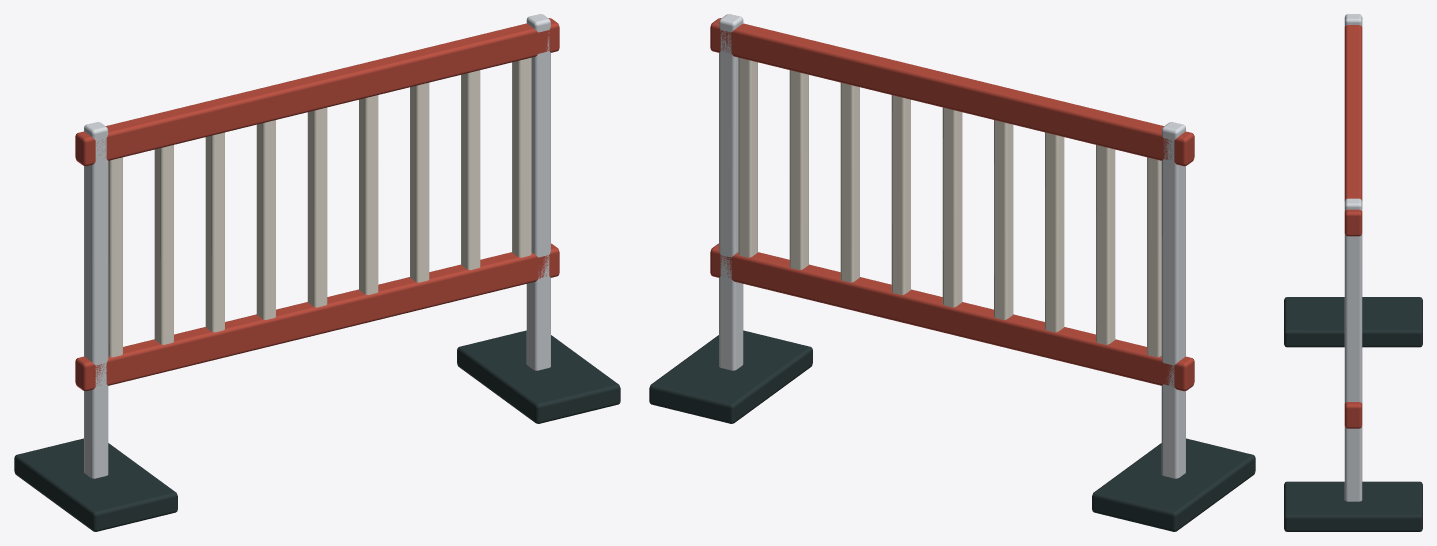
File: wp-barriere-de-chantier.glb
The picture shows the model from 3 angles, left to right: view 1: azimuth 30°, elevation 25°; view 2: azimuth 150°, elevation 25°; view 3: azimuth 270°, elevation 25°; orthographic projection. The views are drawn at different scales.
Visible parts, largest first — view 1: wp-barriere-de-chantier; view 2: wp-barriere-de-chantier; view 3: wp-barriere-de-chantier.
Boxes of the visible parts, box(x1,y1,x2,y2) form: wp-barriere-de-chantier: box(14, 14, 620, 531); wp-barriere-de-chantier: box(649, 14, 1255, 531); wp-barriere-de-chantier: box(1284, 14, 1422, 531).
Size of the model in its own units: 1.5 by 1 by 0.4.
